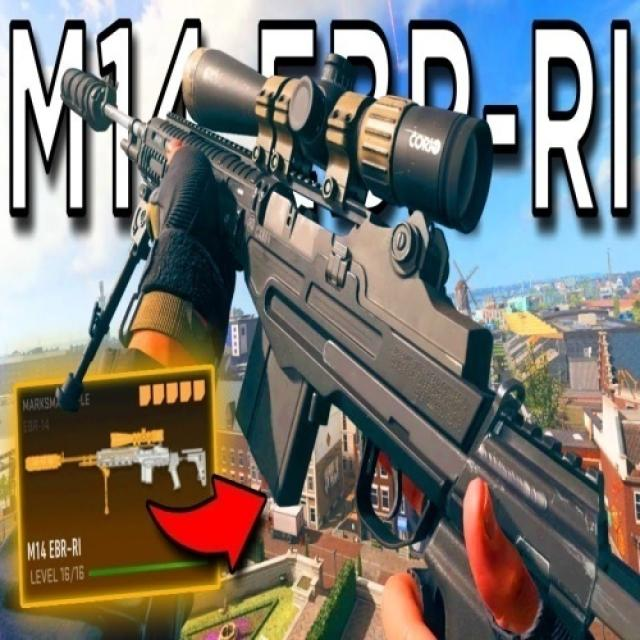Gun: (11, 42, 640, 640)
